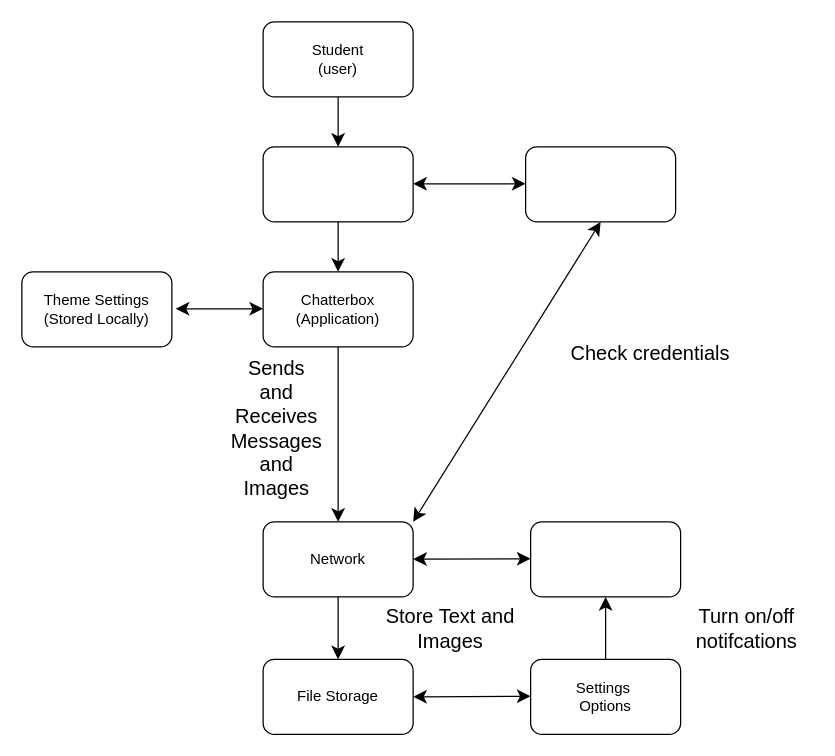
The diagram is 835 pixels wide and 756 high, and some of its shapes have lost their labels. Here are the shapes that lost their labels. From the top down, the centre of each, then its label:
point (337, 184): Login Page
point (600, 184): School LMS Credential Database
point (605, 559): Notification Service
